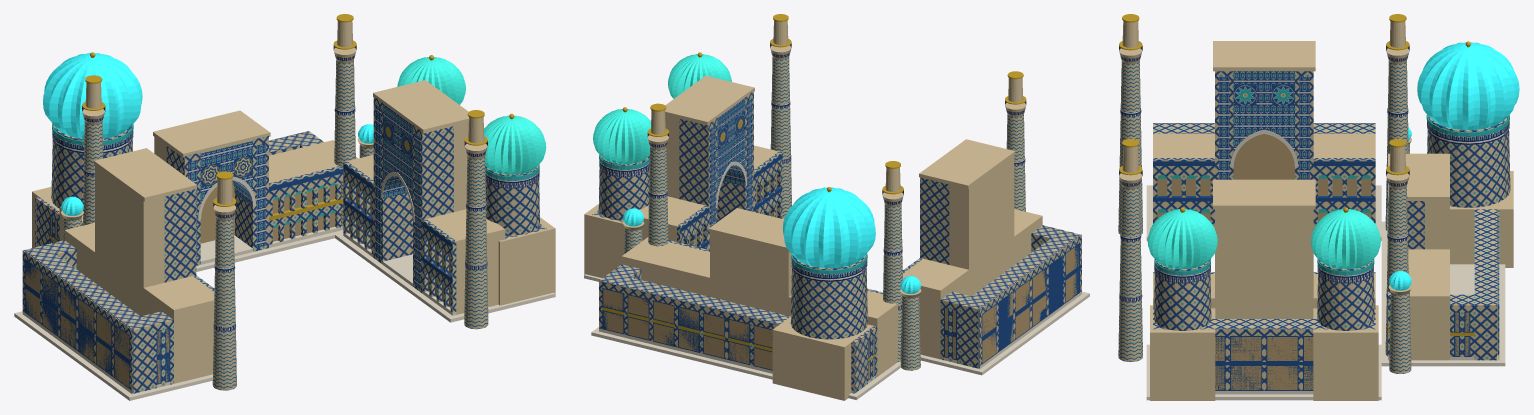
Rendered from registan.opt.glb.
3 views of the same model, side by side, from view 1: azimuth 30°, elevation 25°; view 2: azimuth 150°, elevation 25°; view 3: azimuth 270°, elevation 25° (orthographic). The views are drawn at different scales.
Visible parts, largest first — view 1: UlughBeg_Buff, UlughBeg_BuffTile, UlughBeg_Chevron, UlughBeg_Marble, UlughBeg_GirihFrame, UlughBeg_BuffShadow, TilyaKori_GlazeTK, UlughBeg_Cobalt, SherDor_GlazeSD, UlughBeg_DrumBand, UlughBeg_Gold, UlughBeg_Turquoise (+1 smaller); view 2: UlughBeg_Buff, UlughBeg_BuffTile, UlughBeg_Chevron, UlughBeg_BuffShadow, TilyaKori_GlazeTK, UlughBeg_Cobalt, SherDor_GlazeSD, UlughBeg_Marble, UlughBeg_GirihFrame, UlughBeg_DrumBand, UlughBeg_Gold, UlughBeg_Turquoise; view 3: UlughBeg_Buff, UlughBeg_BuffTile, UlughBeg_Chevron, UlughBeg_BuffShadow, TilyaKori_GlazeTK, SherDor_GlazeSD, UlughBeg_Marble, UlughBeg_GirihFrame, UlughBeg_Cobalt, UlughBeg_DrumBand, UlughBeg_Turquoise, UlughBeg_Gold (+1 smaller).
Boxes of the visible parts, <box> form: UlughBeg_Buff: <box>32,21,555,383</box>; UlughBeg_BuffTile: <box>22,96,546,393</box>; UlughBeg_Chevron: <box>62,60,488,390</box>; UlughBeg_Marble: <box>14,172,555,400</box>; UlughBeg_GirihFrame: <box>188,103,420,288</box>; UlughBeg_BuffShadow: <box>25,181,450,387</box>; TilyaKori_GlazeTK: <box>43,53,373,215</box>; UlughBeg_Cobalt: <box>24,164,452,388</box>; SherDor_GlazeSD: <box>397,57,546,174</box>; UlughBeg_DrumBand: <box>52,55,539,331</box>; UlughBeg_Gold: <box>36,14,514,242</box>; UlughBeg_Turquoise: <box>52,123,539,289</box>; UlughBeg_Buff: <box>584,20,1042,400</box>; UlughBeg_BuffTile: <box>592,91,1081,393</box>; UlughBeg_Chevron: <box>624,57,1025,370</box>; UlughBeg_BuffShadow: <box>603,172,1078,379</box>; TilyaKori_GlazeTK: <box>623,187,920,293</box>; UlughBeg_Cobalt: <box>602,154,1081,380</box>; SherDor_GlazeSD: <box>593,54,731,164</box>; UlughBeg_Marble: <box>584,161,1089,399</box>; UlughBeg_GirihFrame: <box>710,97,752,226</box>; UlughBeg_DrumBand: <box>599,52,1025,309</box>; UlughBeg_Gold: <box>602,14,1026,361</box>; UlughBeg_Turquoise: <box>599,154,867,274</box>; UlughBeg_Buff: <box>1119,21,1513,400</box>; UlughBeg_BuffTile: <box>1153,71,1510,390</box>; UlughBeg_Chevron: <box>1118,61,1411,373</box>; UlughBeg_BuffShadow: <box>1157,134,1469,389</box>; TilyaKori_GlazeTK: <box>1389,42,1519,290</box>; SherDor_GlazeSD: <box>1147,209,1380,269</box>; UlughBeg_Marble: <box>1146,129,1505,400</box>; UlughBeg_GirihFrame: <box>1219,71,1387,231</box>; UlughBeg_Cobalt: <box>1153,161,1498,390</box>; UlughBeg_DrumBand: <box>1119,55,1509,301</box>; UlughBeg_Turquoise: <box>1154,115,1509,275</box>; UlughBeg_Gold: <box>1119,14,1499,335</box>.
Size of the model in its own units: 40.83 by 19.12 by 32.44.
16 materials, 7 textured.
